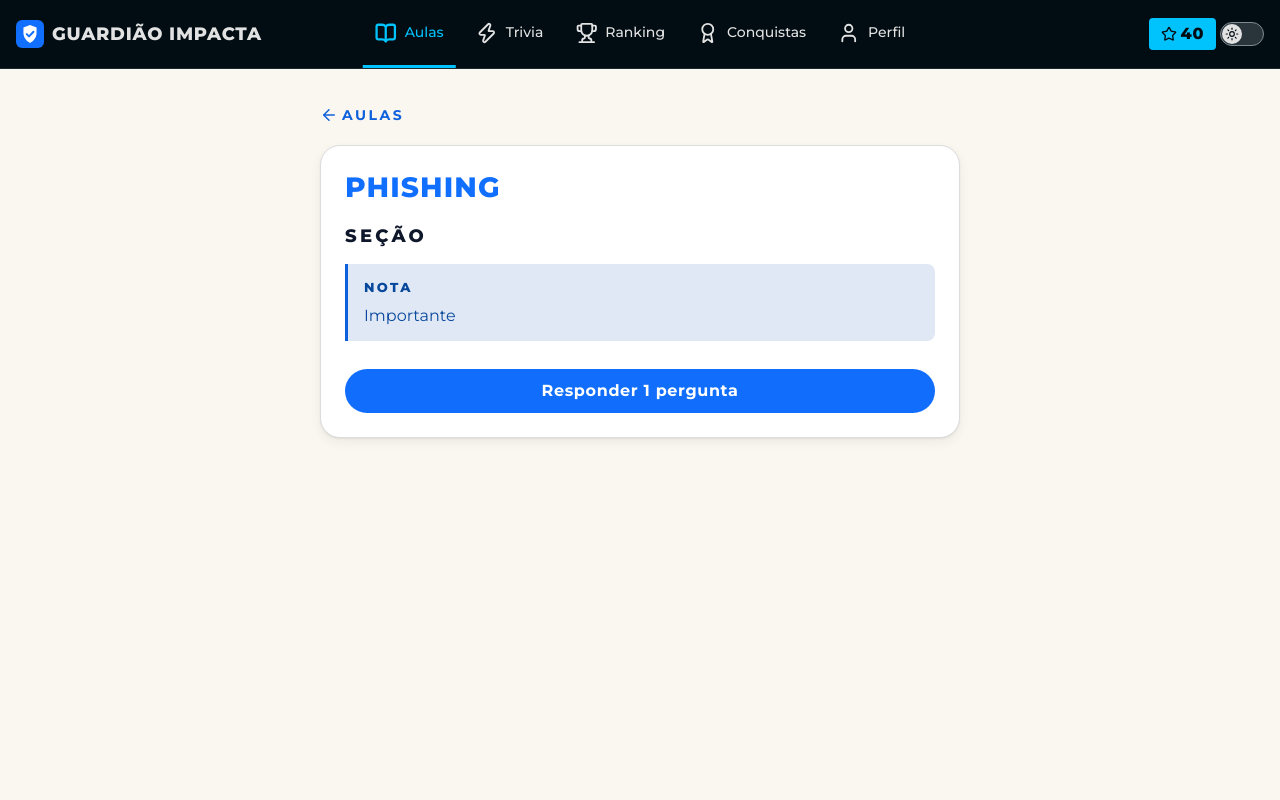
Test: eventos de navegação, leitura e resultado › ao começar as perguntas registra a leitura (tempo e rolagem) e depois o resultado exibido
Expected: the navigation bar named "Navegação principal" is shown, [363, 0, 917, 68]
What coordinates should you click on to do the following:
click the button "Responder 1 pergunta"
I would click on:
 (640, 391)
Its box is [345, 369, 935, 413].
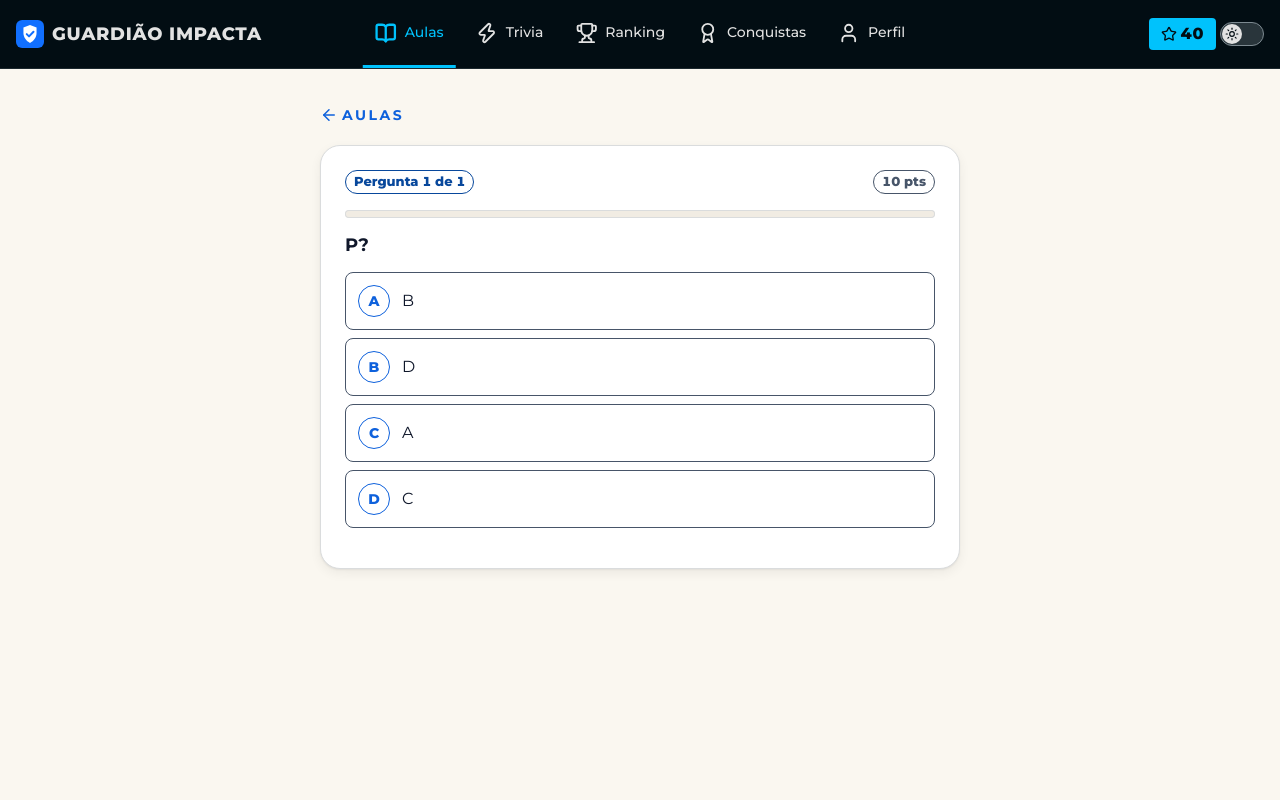
What coordinates should you click on to do the following:
click the button "C A"
I would click on:
 (374, 433)
Its box is [345, 404, 935, 462].
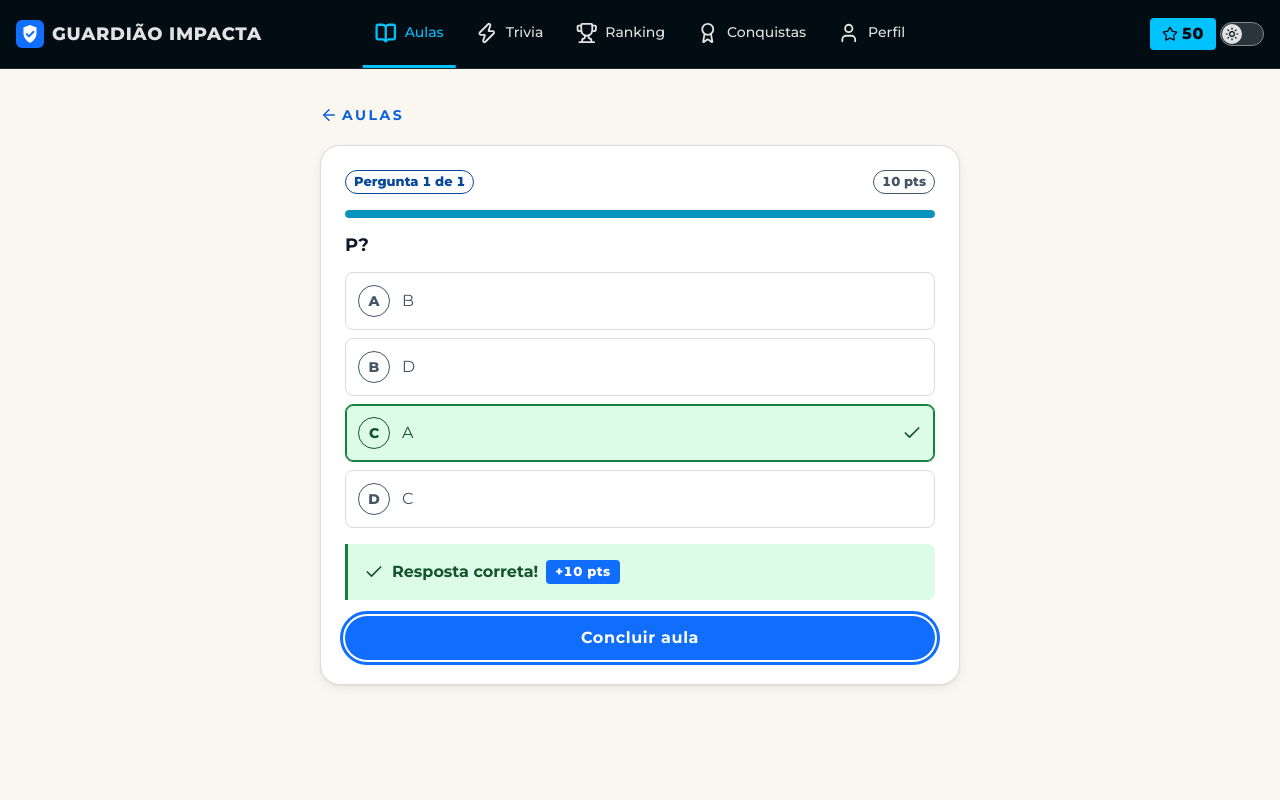
What coordinates should you click on to do the following:
click the button "Concluir aula"
I would click on:
 (640, 638)
Its box is [345, 616, 935, 660].
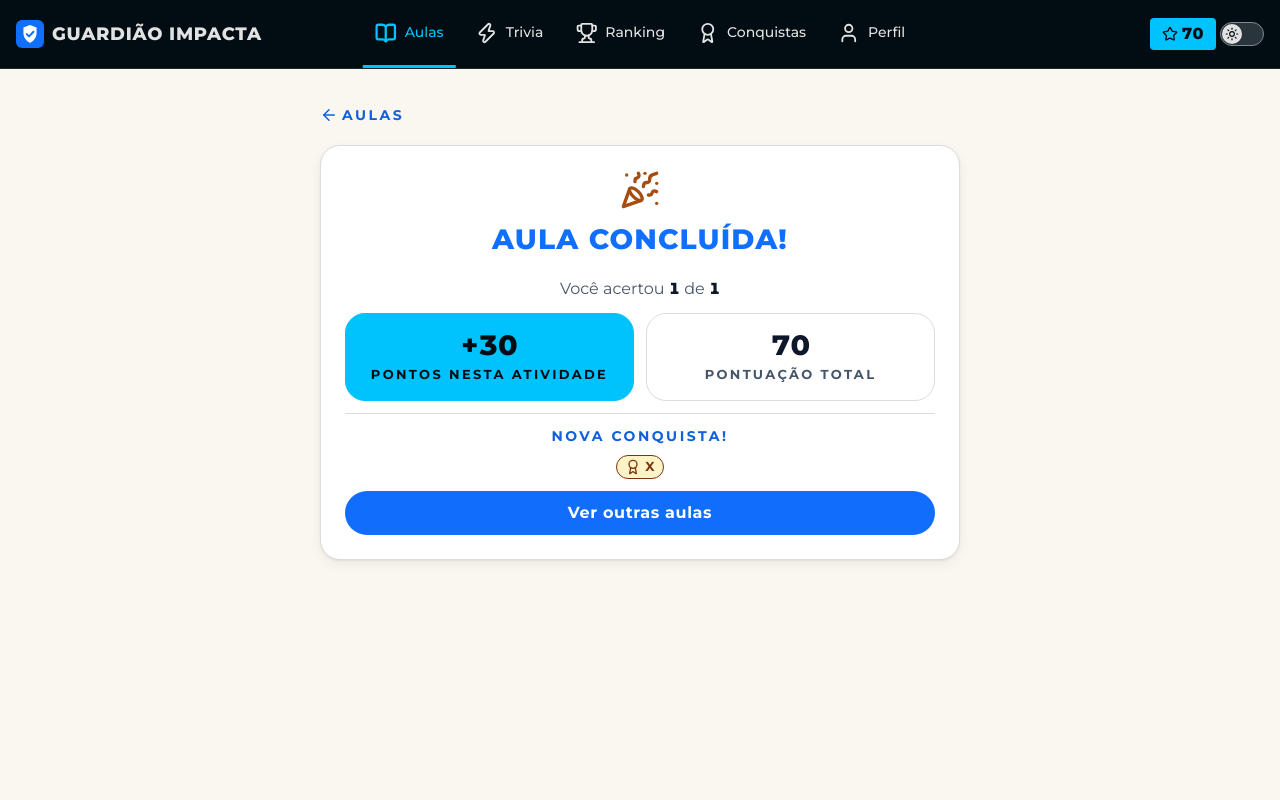
Now the heading "Aula concluída!" is shown, box [492, 222, 788, 257]
